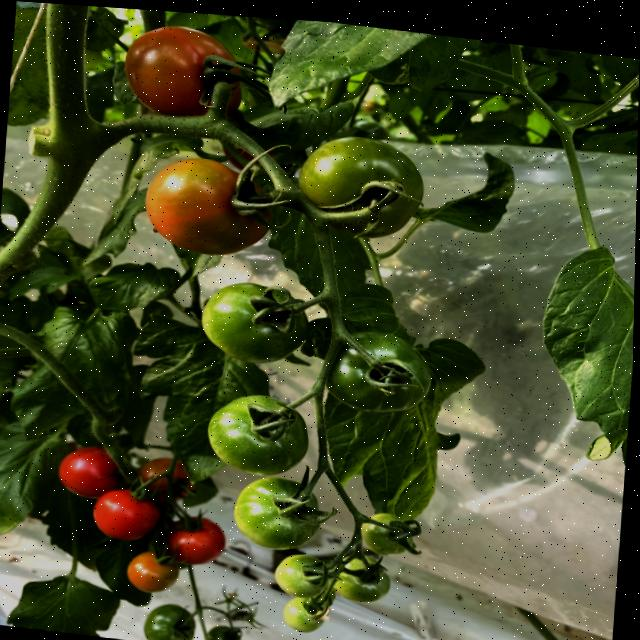ripe0: (295, 130, 426, 243), (322, 325, 436, 419), (199, 277, 312, 370), (205, 390, 310, 479), (231, 472, 322, 553), (273, 551, 330, 600), (362, 512, 412, 559)
ripe1: (142, 152, 275, 262)
ripe2: (122, 21, 246, 124), (92, 484, 163, 544), (57, 443, 117, 501)
